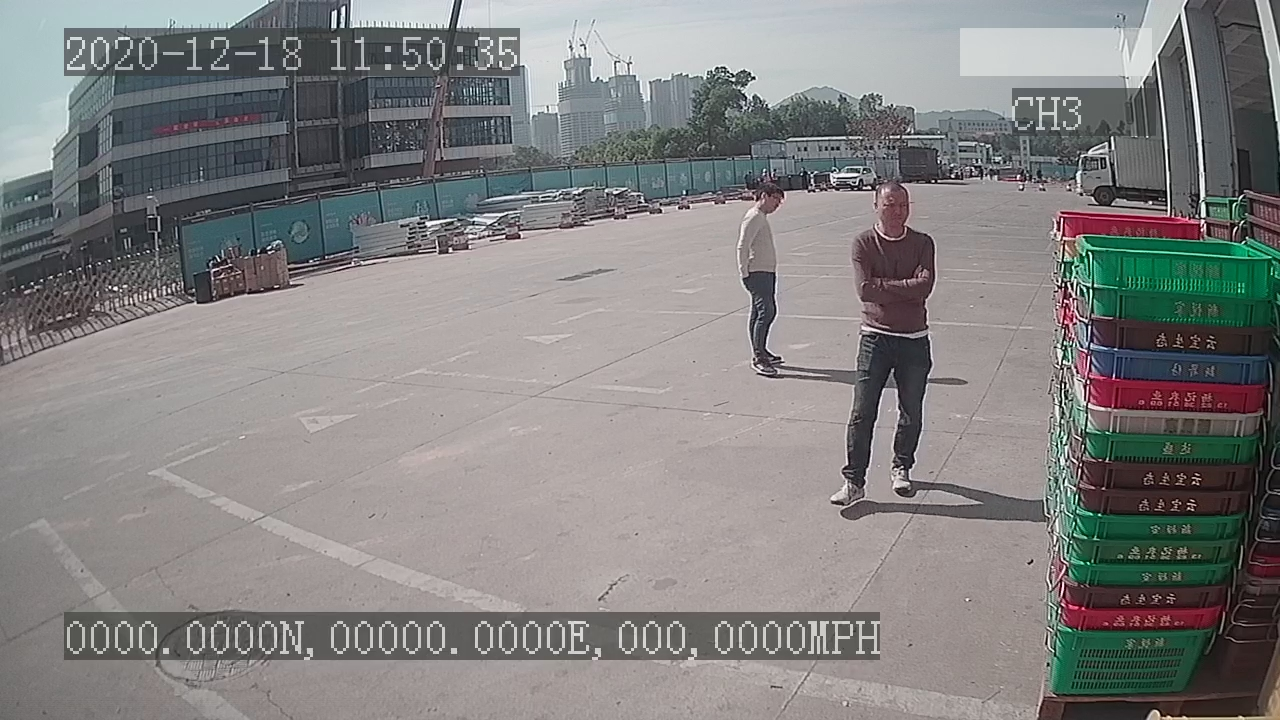person: (824, 176, 942, 513), (726, 176, 801, 381)
